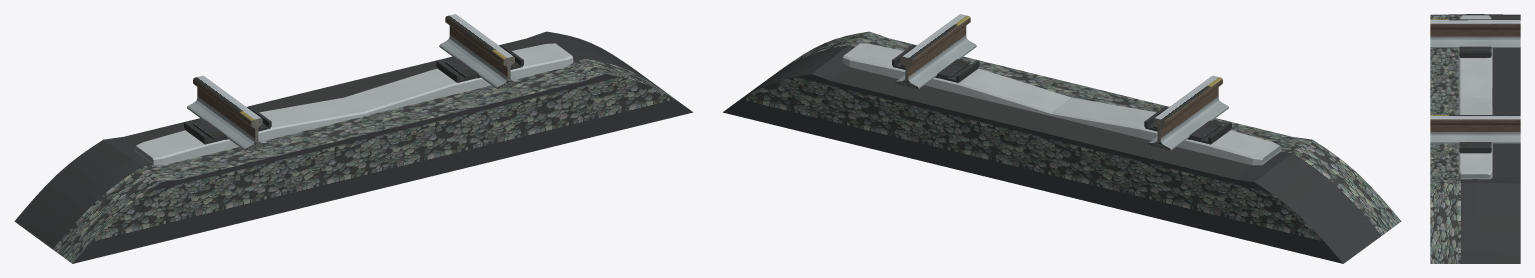
File: rail_low.obj
3 views of the same model, side by side, from view 1: azimuth 30°, elevation 25°; view 2: azimuth 150°, elevation 25°; view 3: azimuth 270°, elevation 25° (orthographic). The views are drawn at different scales.
Parts seen in each view (by area): view 1: ballast, sleeper, rail_left, rail_right, fastener_left, fastener_right; view 2: ballast, sleeper, rail_left, rail_right, fastener_left, fastener_right; view 3: ballast, sleeper, rail_left, rail_right, fastener_right, fastener_left.
Boxes of the visible parts, bbox=[...] form: ballast: bbox=[14, 31, 693, 263]; sleeper: bbox=[134, 43, 573, 165]; rail_left: bbox=[187, 75, 266, 150]; rail_right: bbox=[439, 14, 519, 88]; fastener_left: bbox=[184, 106, 271, 144]; fastener_right: bbox=[436, 45, 523, 82]; ballast: bbox=[722, 31, 1401, 263]; sleeper: bbox=[842, 43, 1281, 165]; rail_left: bbox=[1149, 75, 1228, 150]; rail_right: bbox=[896, 14, 976, 88]; fastener_left: bbox=[1144, 106, 1231, 144]; fastener_right: bbox=[892, 45, 979, 82]; ballast: bbox=[1430, 14, 1520, 263]; sleeper: bbox=[1458, 15, 1492, 179]; rail_left: bbox=[1430, 19, 1520, 47]; rail_right: bbox=[1430, 115, 1520, 143]; fastener_right: bbox=[1459, 142, 1491, 153]; fastener_left: bbox=[1459, 46, 1491, 57].
Size of the model in its own units: 3.7 by 0.5683 by 0.6.
